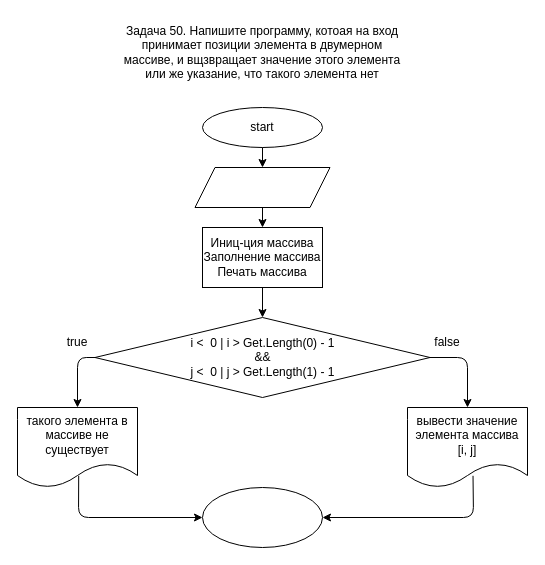
Image size: 545x565. Some labels were removed from this diagram. The centre of each missing label's shape, as x and y in pixels:
[i, j] (вводит польз-ль): point 262,187
finish: point 262,517
